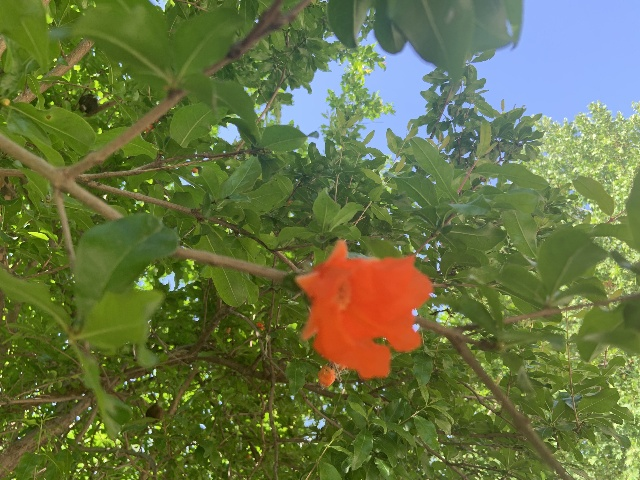bud: (317, 365, 335, 386)
flower: (294, 239, 433, 380)
